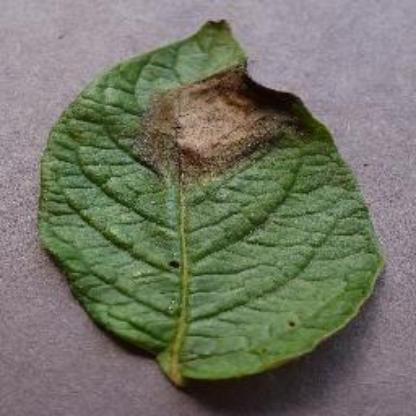Late-Blight: (36, 16, 388, 388)
